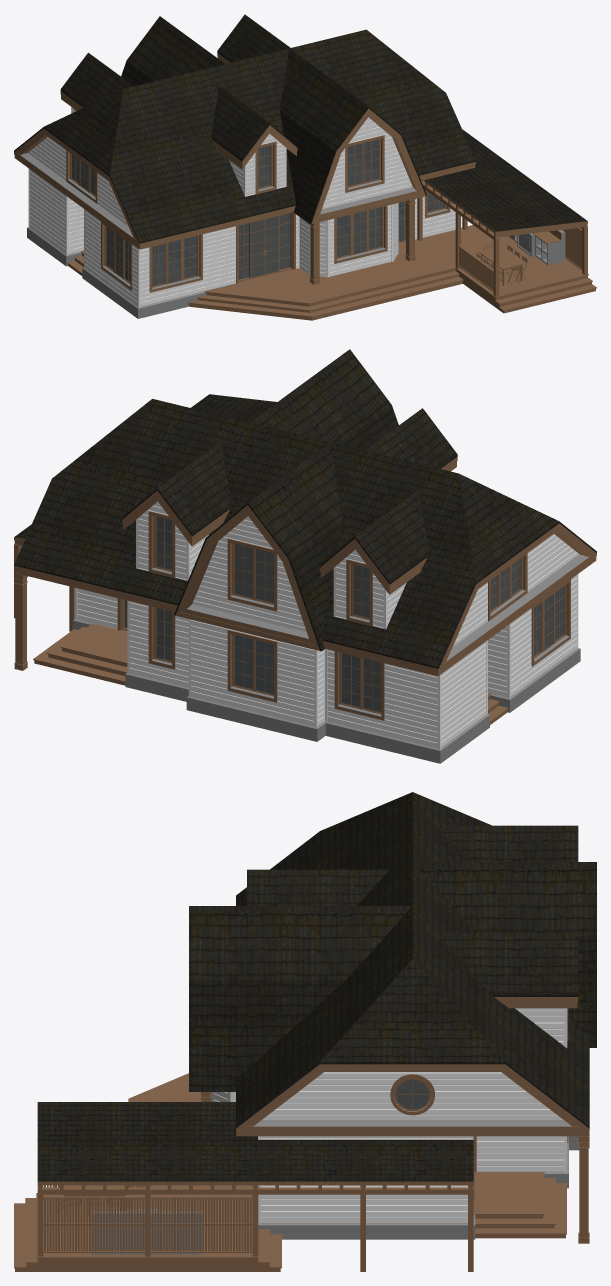
3 views of the same model, one above another, from view 1: azimuth 30°, elevation 25°; view 2: azimuth 150°, elevation 25°; view 3: azimuth 270°, elevation 25° (orthographic). The views are drawn at different scales.
Parts seen in each view (by area): view 1: roof, white_white_0__misc, siding_siding_0__misc, floor, glass, gray, siding_corners; view 2: roof, siding_siding_0__misc, white_white_0__misc, glass, gray, floor, siding_corners; view 3: roof, white_white_0__misc, siding_siding_0__misc, floor, gray, glass.
Boxes of the visible parts, left/top/right/bottom form: roof: left=14, top=14, right=587, bottom=243; white_white_0__misc: left=14, top=53, right=587, bottom=296; siding_siding_0__misc: left=28, top=108, right=455, bottom=306; floor: left=30, top=225, right=596, bottom=320; glass: left=72, top=139, right=444, bottom=286; gray: left=20, top=153, right=565, bottom=318; siding_corners: left=28, top=107, right=461, bottom=307; roof: left=14, top=349, right=596, bottom=668; siding_siding_0__misc: left=77, top=501, right=579, bottom=748; white_white_0__misc: left=14, top=456, right=596, bottom=720; glass: left=124, top=516, right=563, bottom=712; gray: left=72, top=554, right=588, bottom=763; floor: left=33, top=619, right=576, bottom=748; siding_corners: left=74, top=518, right=578, bottom=749; roof: left=37, top=792, right=596, bottom=1181; white_white_0__misc: left=37, top=997, right=589, bottom=1271; siding_siding_0__misc: left=213, top=1008, right=564, bottom=1223; floor: left=14, top=1073, right=566, bottom=1271; gray: left=91, top=1120, right=579, bottom=1254; glass: left=396, top=1079, right=429, bottom=1109.
Size of the model in its own units: 16.43 by 7.45 by 15.58.
7 materials, 1 textured.
